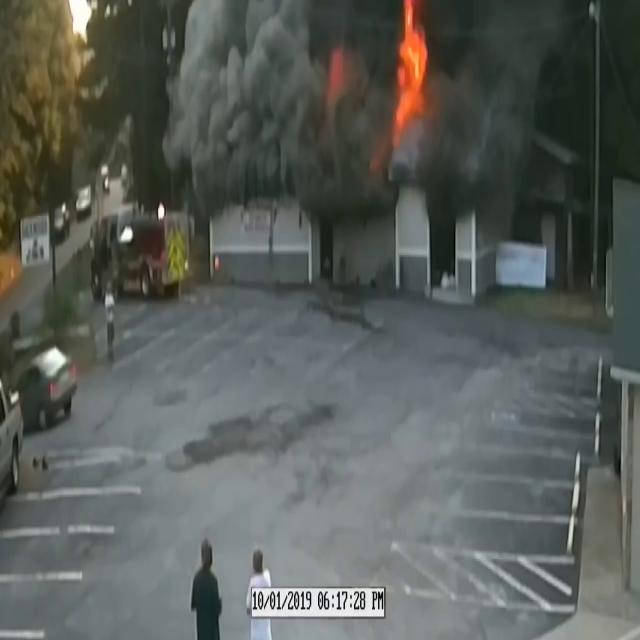Fire: (391, 0, 432, 136)
Smoke: (161, 0, 560, 229)
